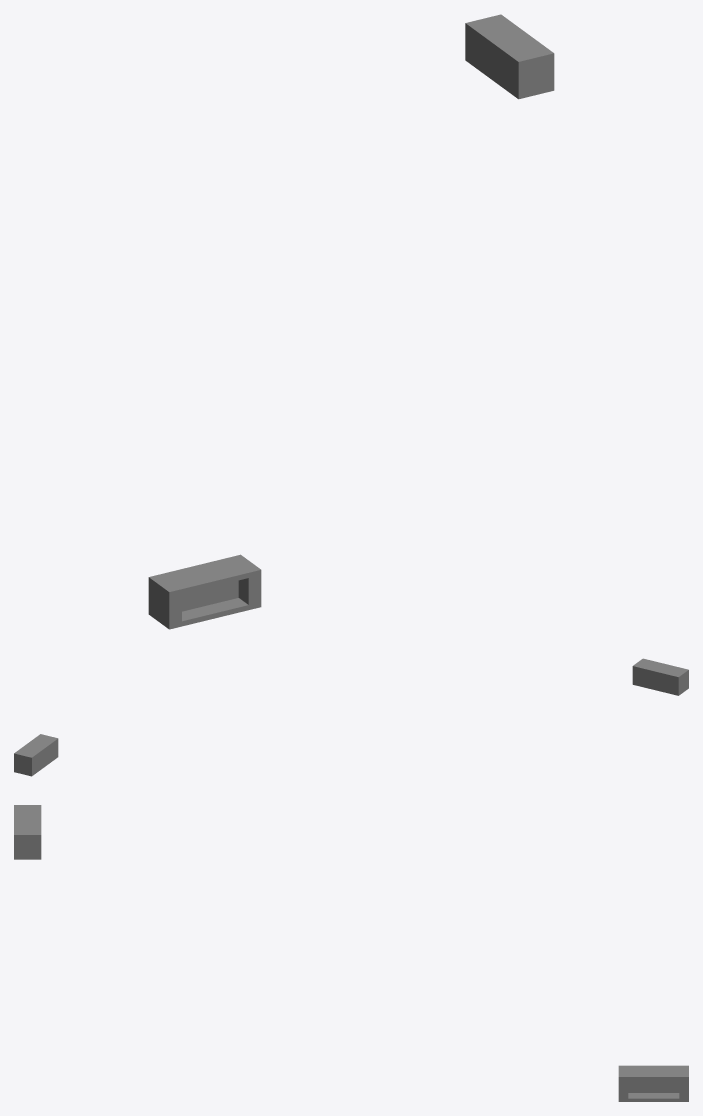
The model's file is egout.gltf.
3 renders of one model, top to bottom at view 1: azimuth 30°, elevation 25°; view 2: azimuth 150°, elevation 25°; view 3: azimuth 270°, elevation 25°, orthographic. The views are drawn at different scales.
Visible parts, largest first — view 1: egout; view 2: egout; view 3: egout.
Boxes of the visible parts, box(x1,y1,x2,y2) form: egout: box(148, 14, 554, 629); egout: box(14, 658, 688, 776); egout: box(14, 805, 688, 1101).
Size of the model in its own units: 1.78 by 0.0756 by 1.87.
